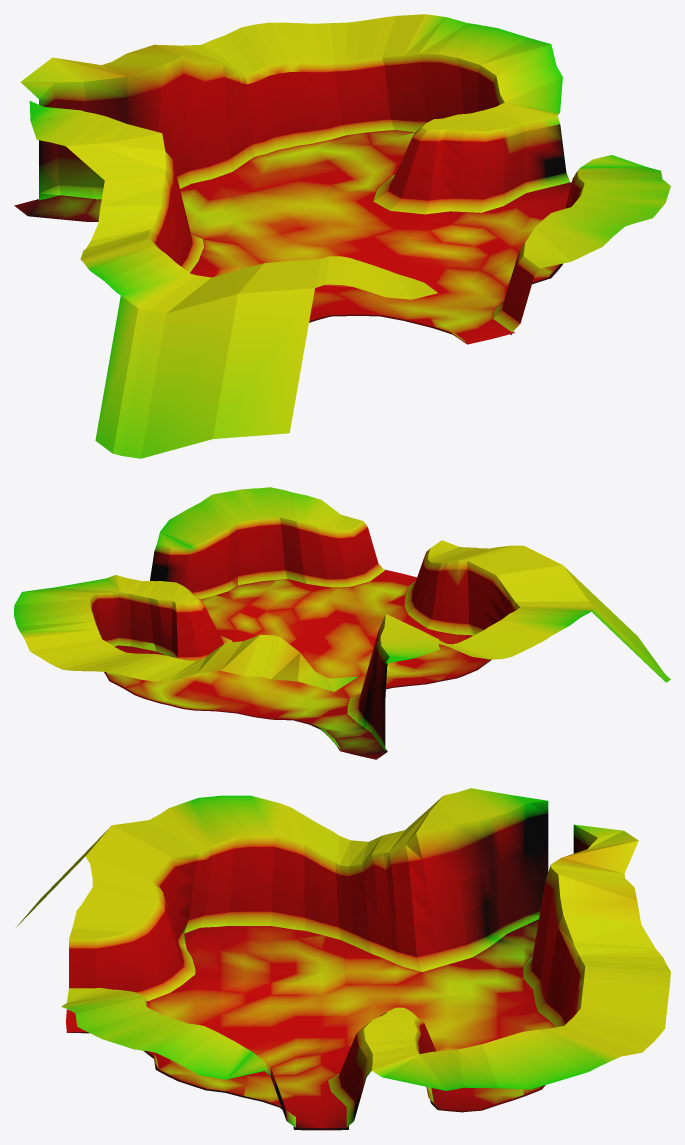
File: forest_clearing_1.glb
3 renders of one model, top to bottom at view 1: azimuth 30°, elevation 25°; view 2: azimuth 150°, elevation 25°; view 3: azimuth 270°, elevation 25°, orthographic. The views are drawn at different scales.
Parts seen in each view (by area): view 1: Clearing_1_Wall, Clearing_1_Floor; view 2: Clearing_1_Wall, Clearing_1_Floor; view 3: Clearing_1_Wall, Clearing_1_Floor.
Boxes of the visible parts, bbox=[...] form: Clearing_1_Wall: bbox=[21, 14, 670, 458]; Clearing_1_Floor: bbox=[14, 130, 571, 344]; Clearing_1_Wall: bbox=[14, 487, 670, 750]; Clearing_1_Floor: bbox=[104, 569, 491, 759]; Clearing_1_Wall: bbox=[16, 788, 670, 1127]; Clearing_1_Floor: bbox=[66, 919, 555, 1130].
Bounding box in the file's own units: 58.86 × 13.67 × 52.08.
